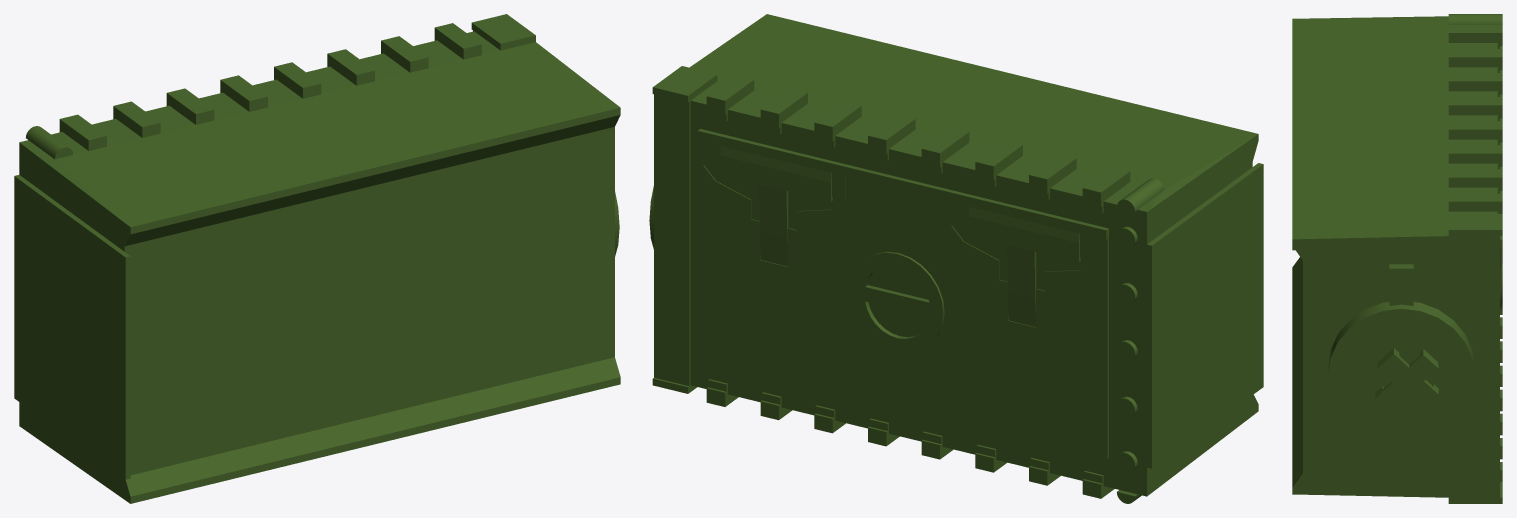
The picture shows the model from 3 angles, left to right: view 1: azimuth 30°, elevation 25°; view 2: azimuth 150°, elevation 25°; view 3: azimuth 270°, elevation 25°; orthographic projection. The views are drawn at different scales.
Visible parts, largest first — view 1: mesh7_mesh7-geometry; view 2: mesh7_mesh7-geometry; view 3: mesh7_mesh7-geometry, mesh5_mesh5-geometry, mesh1_mesh1-geometry, mesh3_mesh3-geometry.
Boxes of the visible parts, bbox=[...] form: mesh7_mesh7-geometry: bbox=[14, 14, 620, 503]; mesh7_mesh7-geometry: bbox=[649, 14, 1263, 503]; mesh7_mesh7-geometry: bbox=[1292, 14, 1502, 503]; mesh5_mesh5-geometry: bbox=[1375, 348, 1438, 411]; mesh1_mesh1-geometry: bbox=[1389, 264, 1413, 305]; mesh3_mesh3-geometry: bbox=[1389, 440, 1413, 466].
Size of the model in its own units: 0.8313 by 0.4606 by 0.3112.
